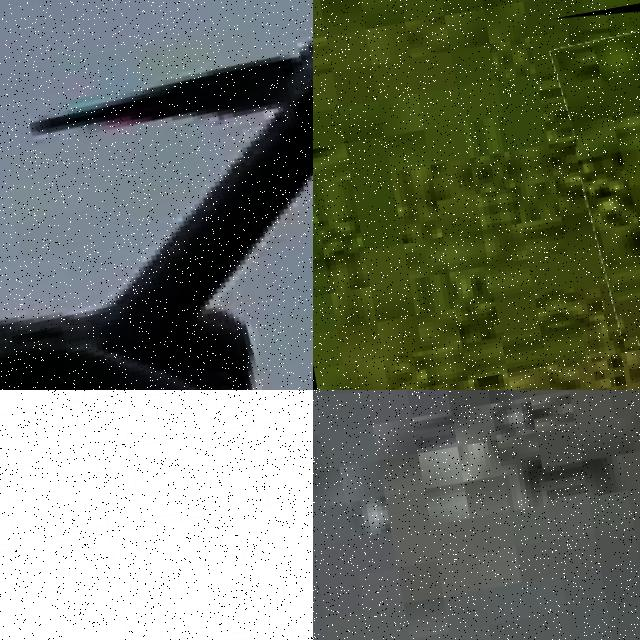drone: (0, 0, 313, 390), (552, 0, 640, 340)
